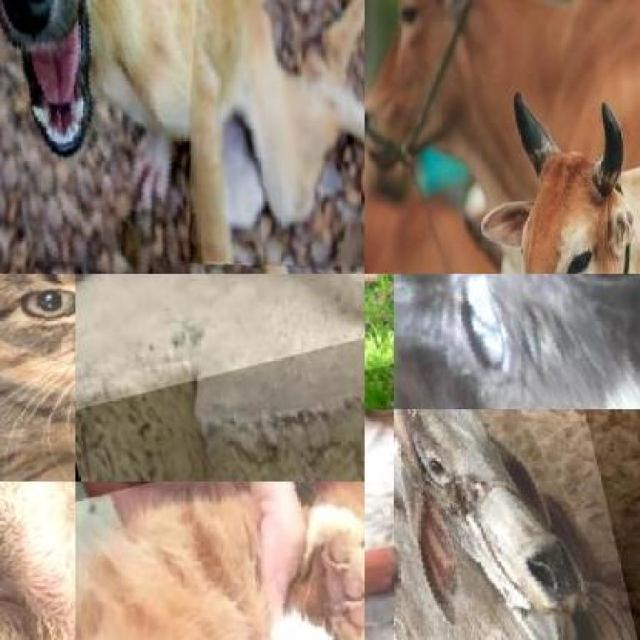cat: (75, 481, 364, 640), (394, 274, 640, 409), (0, 273, 75, 481)
cow: (392, 0, 640, 271), (394, 409, 640, 640), (517, 140, 640, 274)
dog: (0, 0, 365, 274), (76, 274, 364, 412)
injured: (178, 0, 364, 272), (0, 540, 75, 640)
